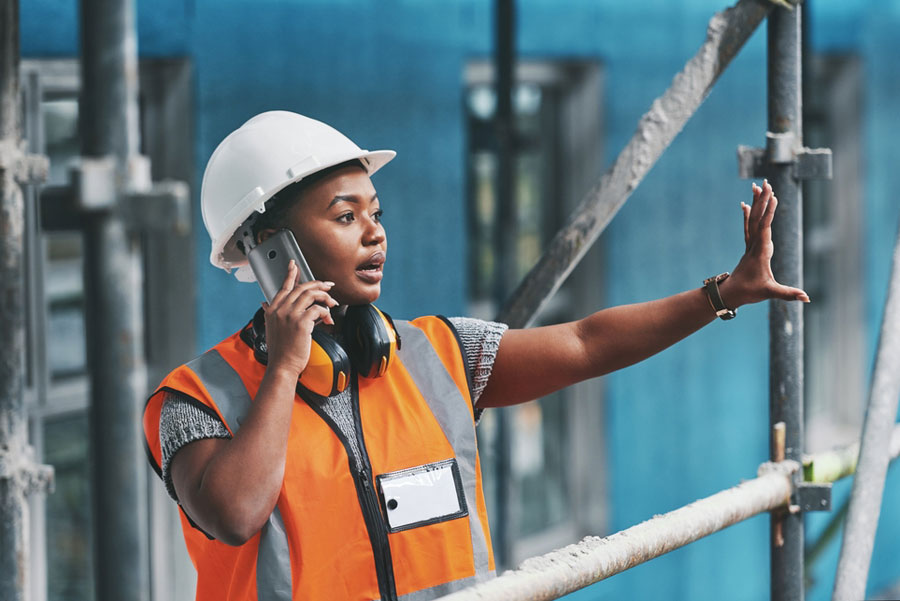jacket: (142, 327, 492, 589)
white_hat: (193, 109, 411, 199)
